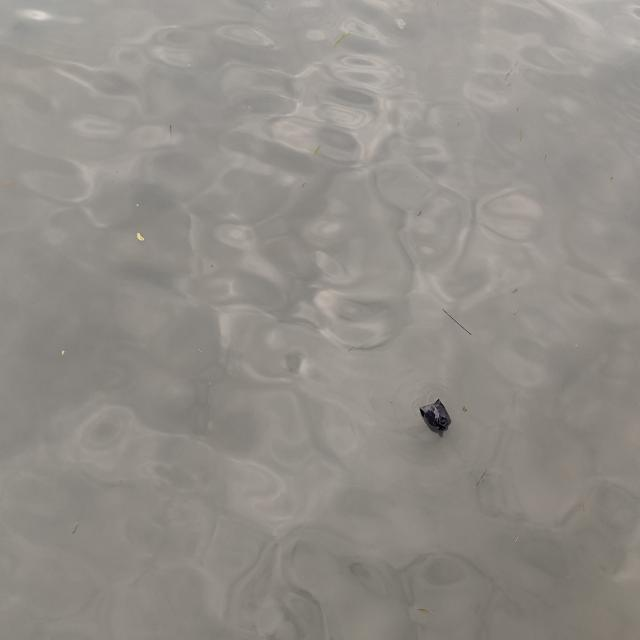Kantong Plastik: (418, 390, 456, 441)
